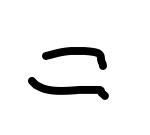eqv: (23, 44, 112, 101)
